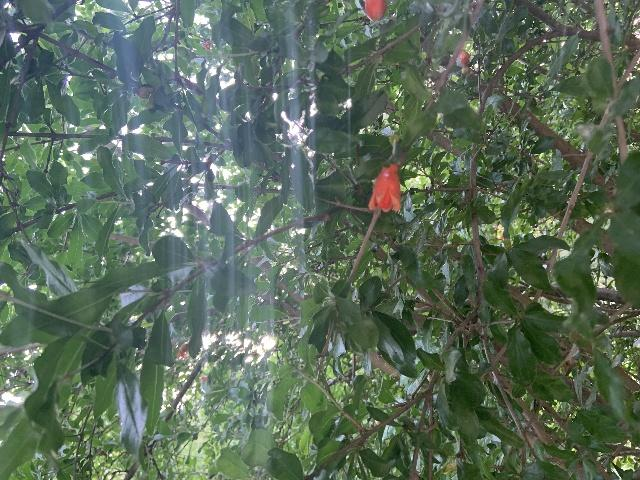bud: (364, 0, 387, 21), (458, 50, 469, 65)
early-fruit: (173, 343, 189, 360)
flower: (367, 164, 400, 211), (201, 41, 212, 51)
